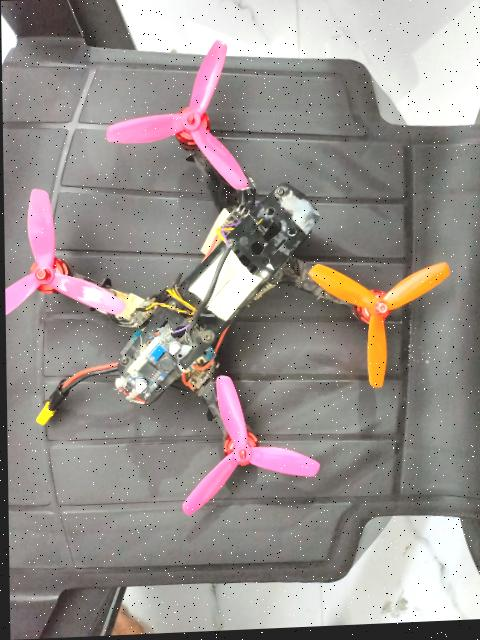drone: (1, 41, 458, 517)
